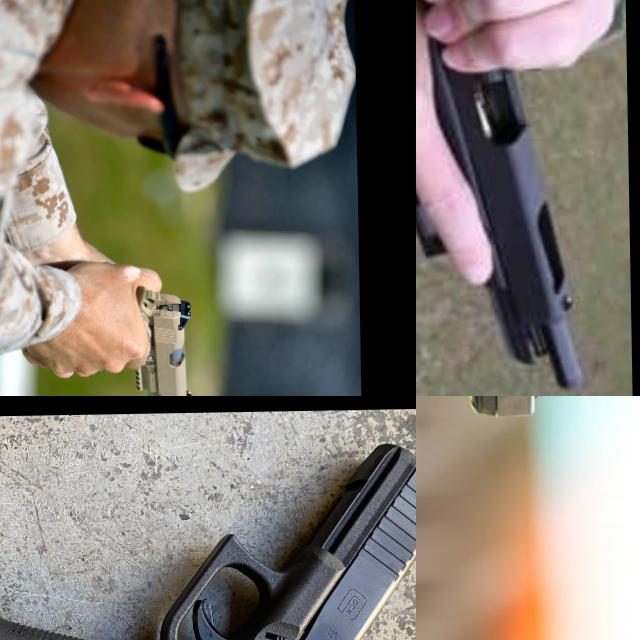handgun: (0, 429, 416, 640), (416, 0, 590, 396), (416, 396, 551, 515), (130, 278, 195, 396)
